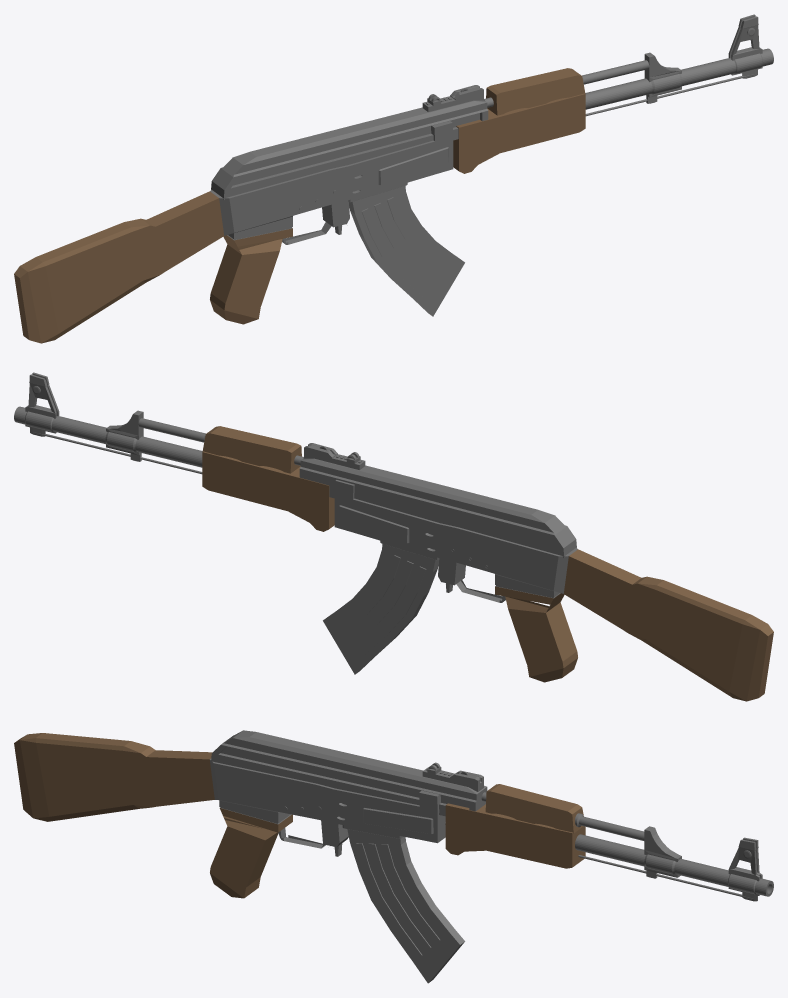
3 renders of one model, top to bottom at view 1: azimuth 30°, elevation 25°; view 2: azimuth 150°, elevation 25°; view 3: azimuth 330°, elevation 25°, orthographic.
Visible parts, largest first — view 1: AKBody, AKMag; view 2: AKBody, AKMag; view 3: AKBody, AKMag.
Boxes of the visible parts, x1,y1,x2,y2 form: AKBody: [14, 14, 773, 343]; AKMag: [349, 186, 464, 316]; AKBody: [14, 372, 773, 701]; AKMag: [323, 544, 438, 674]; AKBody: [14, 730, 773, 901]; AKMag: [347, 829, 464, 983].
Size of the model in its own units: 9.47 by 2.64 by 0.3738.
